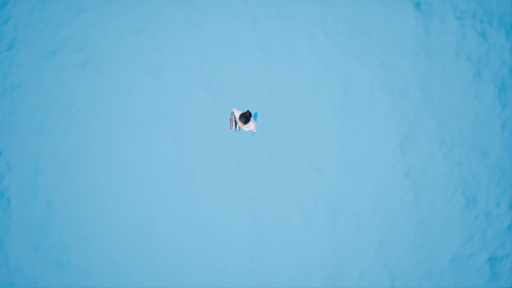person: (227, 107, 262, 135)
